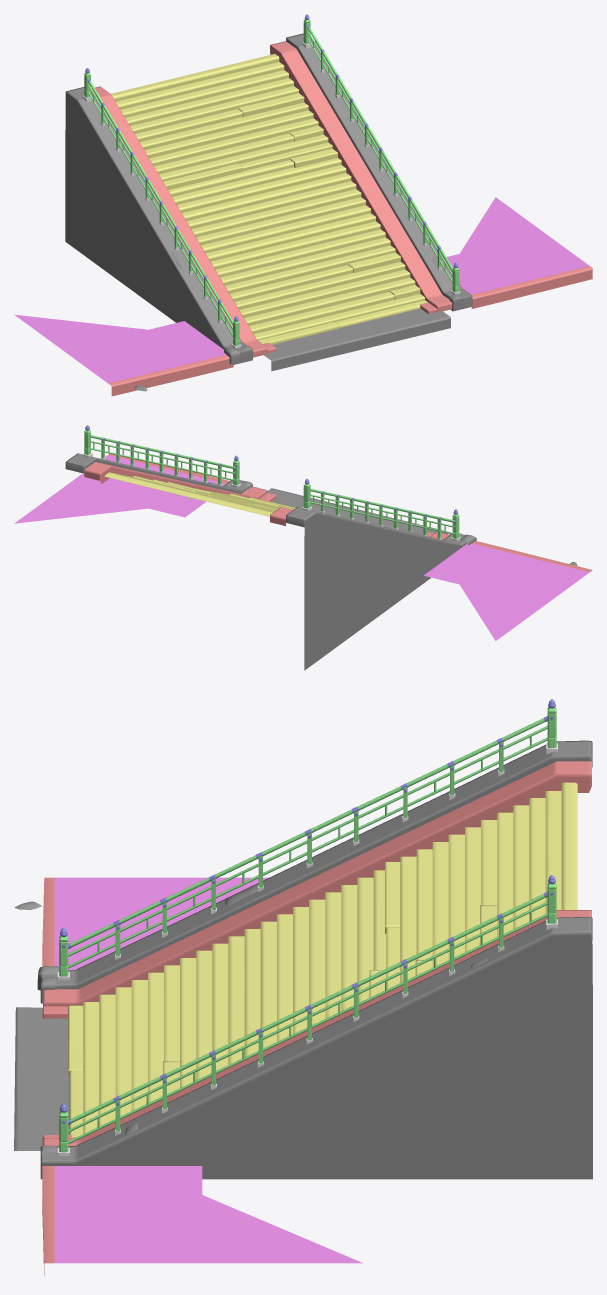
The model's file is SM_ENV_LKNVLD_Ground_StairCase_01_Lod2.gltf.
The picture shows the model from 3 angles, top to bottom: view 1: azimuth 30°, elevation 25°; view 2: azimuth 150°, elevation 25°; view 3: azimuth 270°, elevation 25°; orthographic projection. The views are drawn at different scales.
Visible parts, largest first — view 1: SM_ENV_LKNVLD_Ground_StairCase_01_Lod2; view 2: SM_ENV_LKNVLD_Ground_StairCase_01_Lod2; view 3: SM_ENV_LKNVLD_Ground_StairCase_01_Lod2.
Part boxes in pixels (bbox=[...]): SM_ENV_LKNVLD_Ground_StairCase_01_Lod2: bbox=[14, 14, 592, 396]; SM_ENV_LKNVLD_Ground_StairCase_01_Lod2: bbox=[14, 425, 592, 670]; SM_ENV_LKNVLD_Ground_StairCase_01_Lod2: bbox=[14, 699, 592, 1275].
Size of the model in its own units: 22.64 by 8.47 by 14.36.
